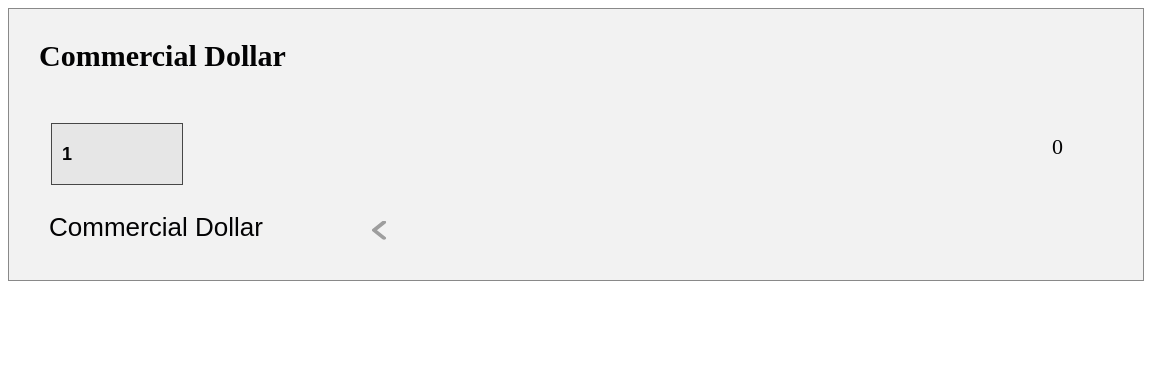
Test case: modal context › should display selected currency value in dropdown
Click the button with test id "selected-currency": {"x": 219, "y": 228} [39, 205, 399, 250]
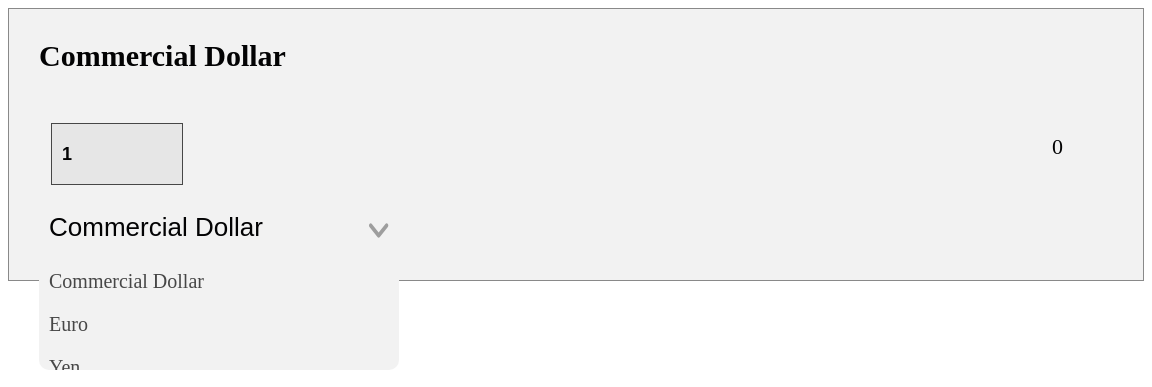
Click the text "Euro": {"x": 68, "y": 324} [49, 313, 88, 335]
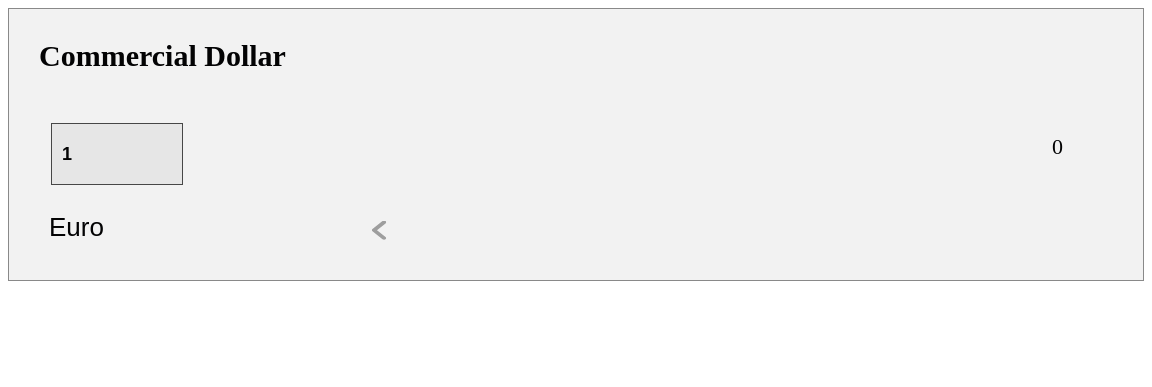
expect the button with test id "selected-currency" reads "Euro": met, box [39, 205, 399, 250]
